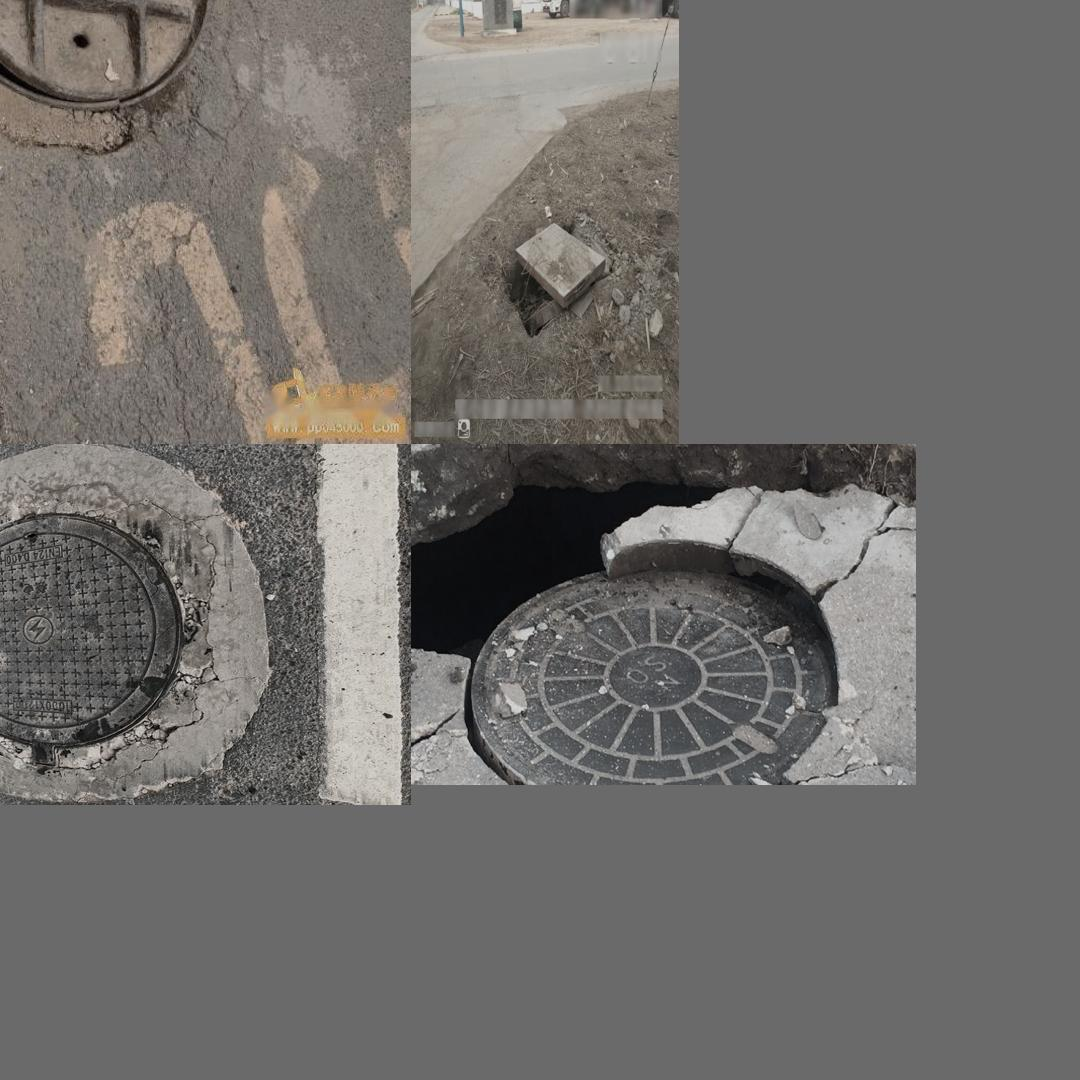circle: (419, 457, 910, 781), (0, 454, 268, 797), (0, 0, 258, 181), (495, 209, 620, 348)
